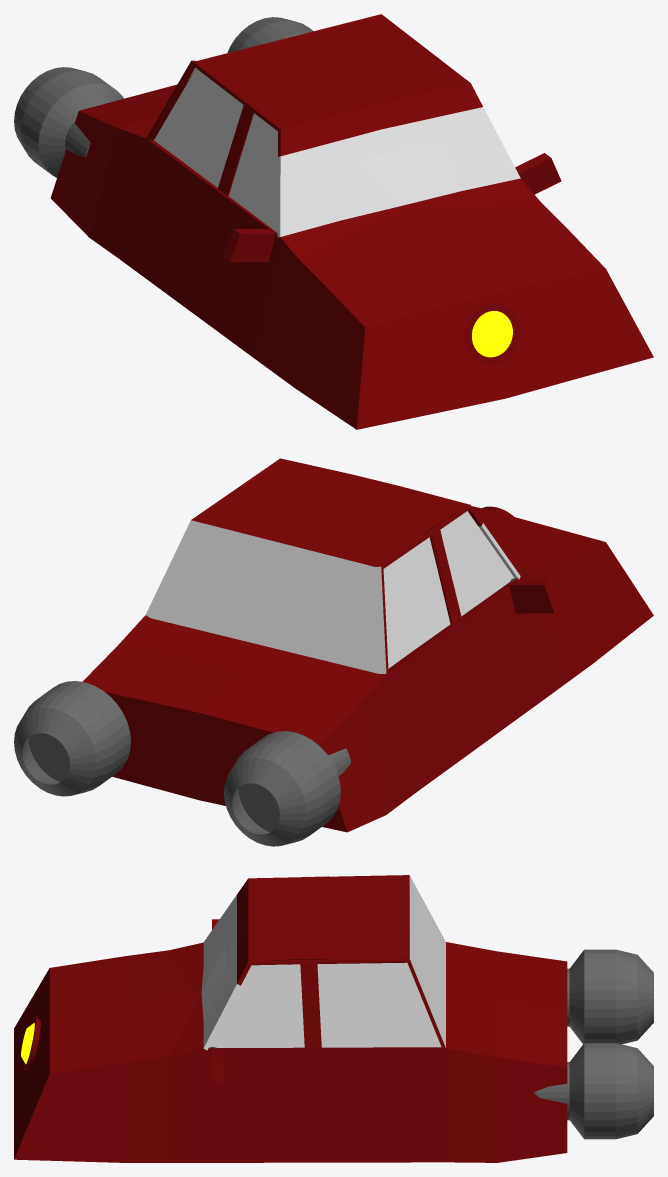
Rendered from Машина ріл.fbx.
The picture shows the model from 3 angles, top to bottom: view 1: azimuth 30°, elevation 25°; view 2: azimuth 150°, elevation 25°; view 3: azimuth 270°, elevation 25°; orthographic projection. The views are drawn at different scales.
Parts seen in each view (by area): view 1: Куб, Коло.002, Коло, Куб.001, Коло.001; view 2: Куб, Коло.002, Коло.001, Куб.001; view 3: Куб, Коло.001, Коло.002, Коло, Куб.001.
Part boxes in pixels (x1=…): Куб: x1=50, y1=14, x2=653, y2=429; Коло.002: x1=14, y1=67, x2=123, y2=177; Коло: x1=465, y1=303, x2=519, y2=365; Куб.001: x1=223, y1=153, x2=561, y2=262; Коло.001: x1=227, y1=17, x2=313, y2=52; Куб: x1=82, y1=458, x2=653, y2=832; Коло.002: x1=224, y1=731, x2=350, y2=846; Коло.001: x1=14, y1=681, x2=130, y2=796; Куб.001: x1=509, y1=580, x2=561, y2=613; Куб: x1=14, y1=875, x2=567, y2=1162; Коло.001: x1=534, y1=1043, x2=653, y2=1139; Коло.002: x1=567, y1=949, x2=653, y2=1044; Коло: x1=21, y1=1016, x2=40, y2=1071; Куб.001: x1=212, y1=919, x2=224, y2=1084.
Bounding box in the file's own units: 643 × 379 × 1189.
